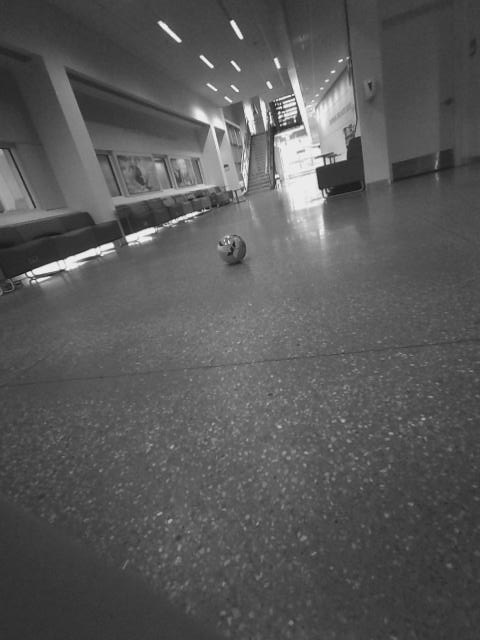ball: (212, 232, 248, 267)
